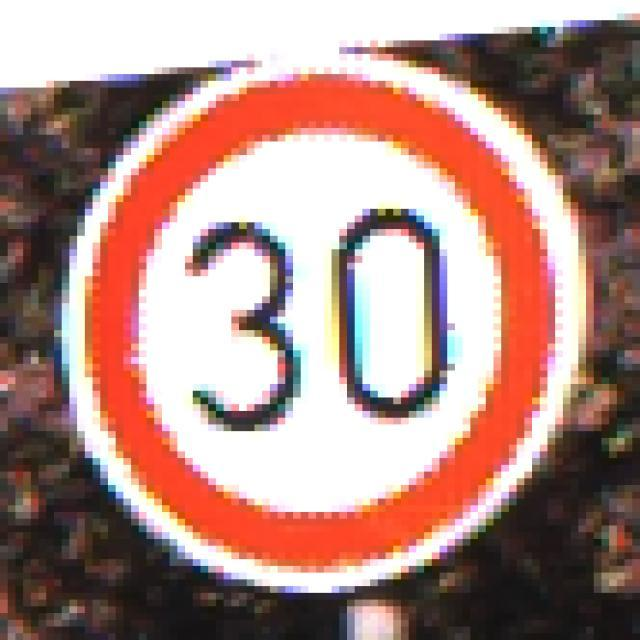Speed Limit -30-: (50, 50, 582, 582)
